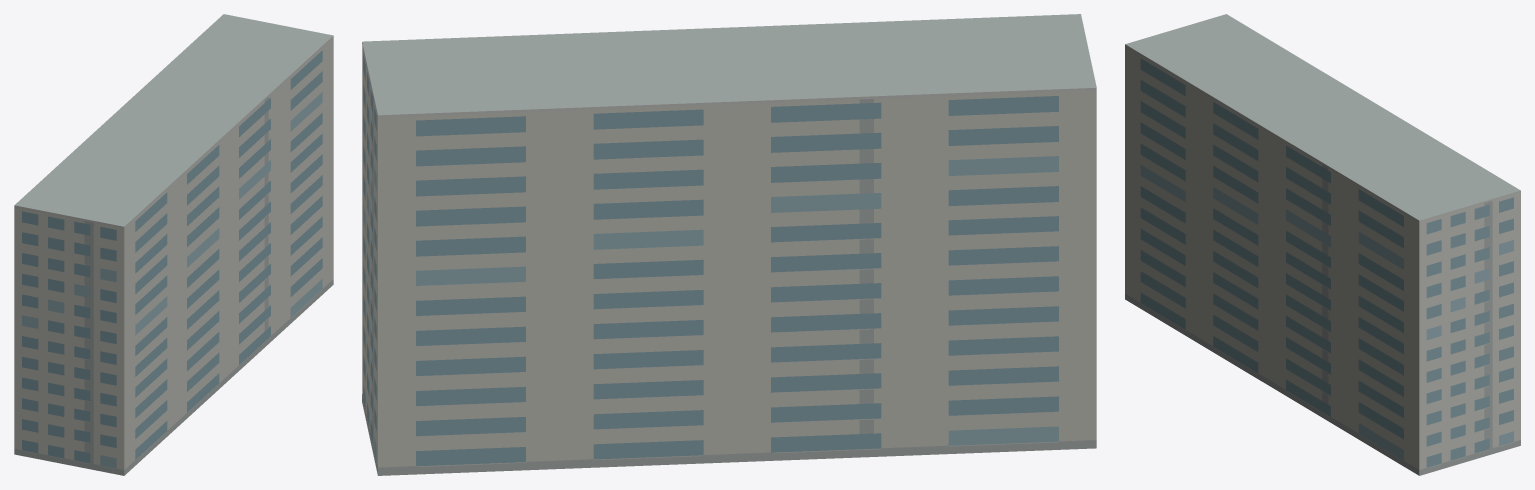
Rendered from residential-cda5574b-367d-4272-9382-1bc5ec4fdb7a.glb.
3 views of the same model, side by side, from view 1: azimuth 30°, elevation 25°; view 2: azimuth 150°, elevation 25°; view 3: azimuth 270°, elevation 25° (orthographic). The views are drawn at different scales.
Visible parts, largest first — view 1: residential-cda5574b-367d-4272-9382-1bc5ec4fdb7a.tmp; view 2: residential-cda5574b-367d-4272-9382-1bc5ec4fdb7a.tmp; view 3: residential-cda5574b-367d-4272-9382-1bc5ec4fdb7a.tmp.
Boxes of the visible parts, box(x1,y1,x2,y2) form: residential-cda5574b-367d-4272-9382-1bc5ec4fdb7a.tmp: box(14, 14, 333, 475); residential-cda5574b-367d-4272-9382-1bc5ec4fdb7a.tmp: box(362, 14, 1096, 475); residential-cda5574b-367d-4272-9382-1bc5ec4fdb7a.tmp: box(1125, 14, 1520, 475).
Size of the model in its own units: 57.31 by 33 by 46.37.
